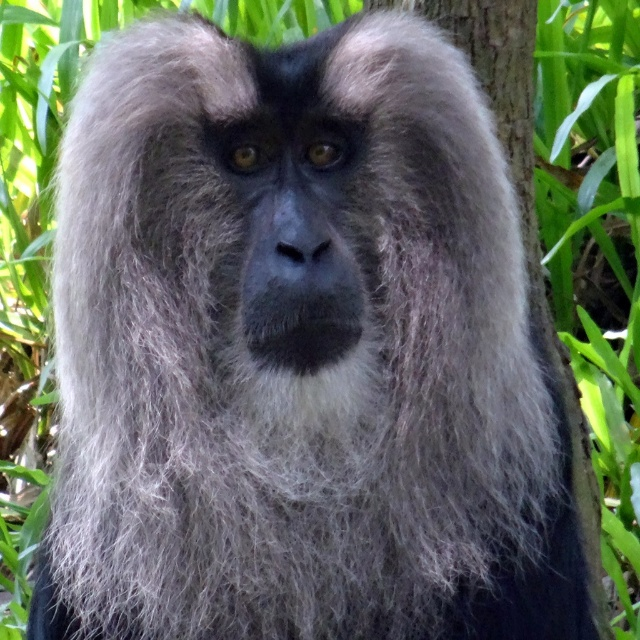Monkey: (24, 5, 611, 640)
